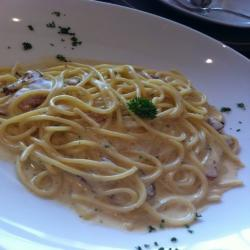carbonara: (1, 53, 244, 233)
